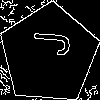J: (24, 29, 70, 57)
